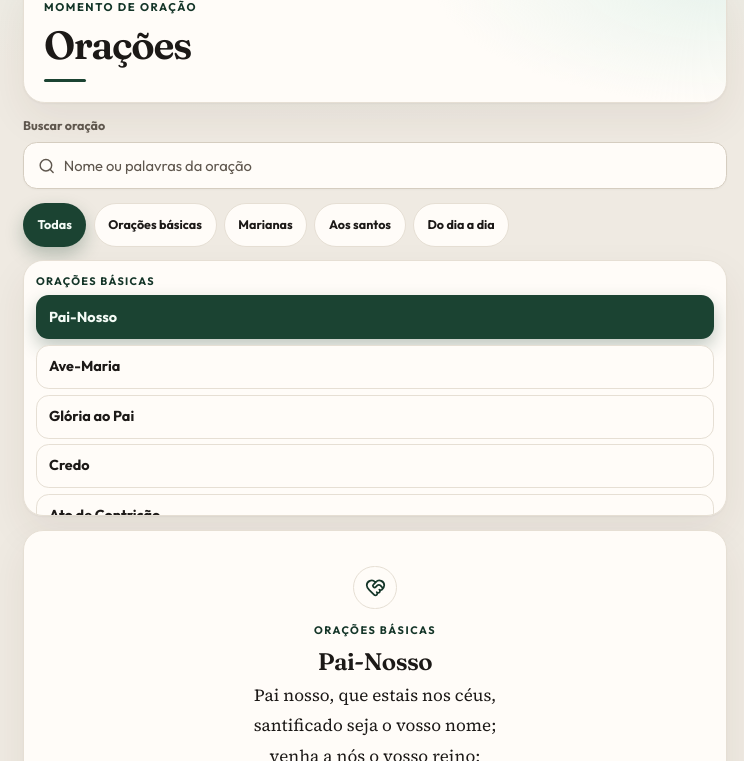
Test: PrayersPage › finds a prayer by name without accents and shows its text
Type "sao miguel" into the search field labelled "Buscar oração". click: (388, 166)
box: [64,143,712,188]
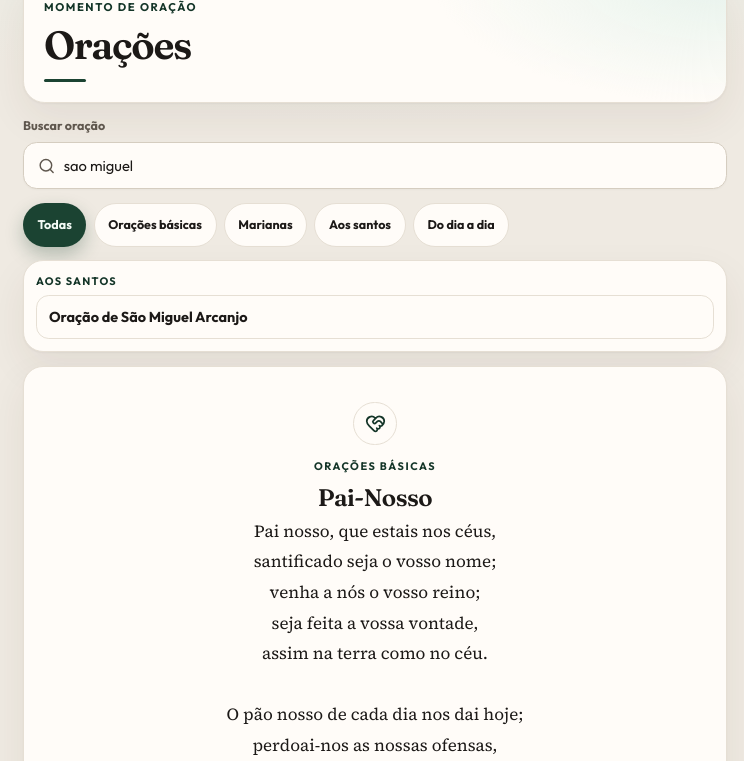
Expected: the element that starts with "Orações básicas" shows "Pai-Nosso", [318,483,432,512]
Click the button "Oração de São Miguel Arcanjo". click: (148, 317)
box: [36,295,714,339]
(page scrolled)
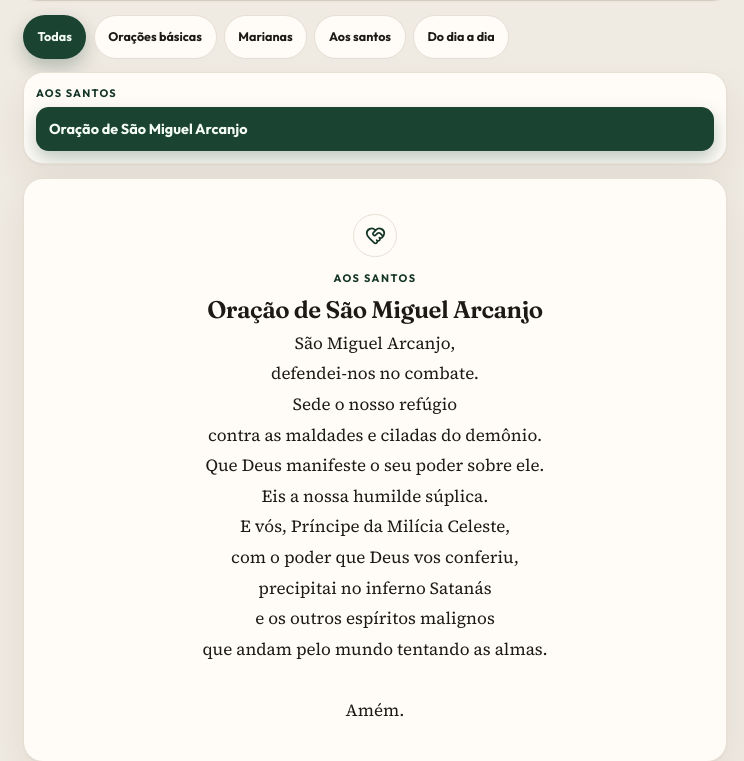
Now the text "defendei-nos no combate" is shown, box [202,331,548,722]
Now the text "Aos santos" is shown, box [333,271,416,285]
